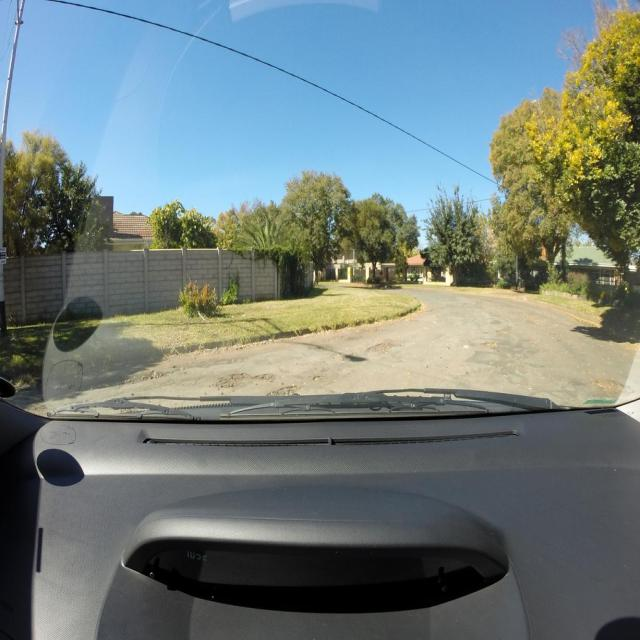Pothole: (214, 373, 252, 387), (266, 384, 298, 395), (367, 344, 395, 353), (252, 374, 272, 381)
